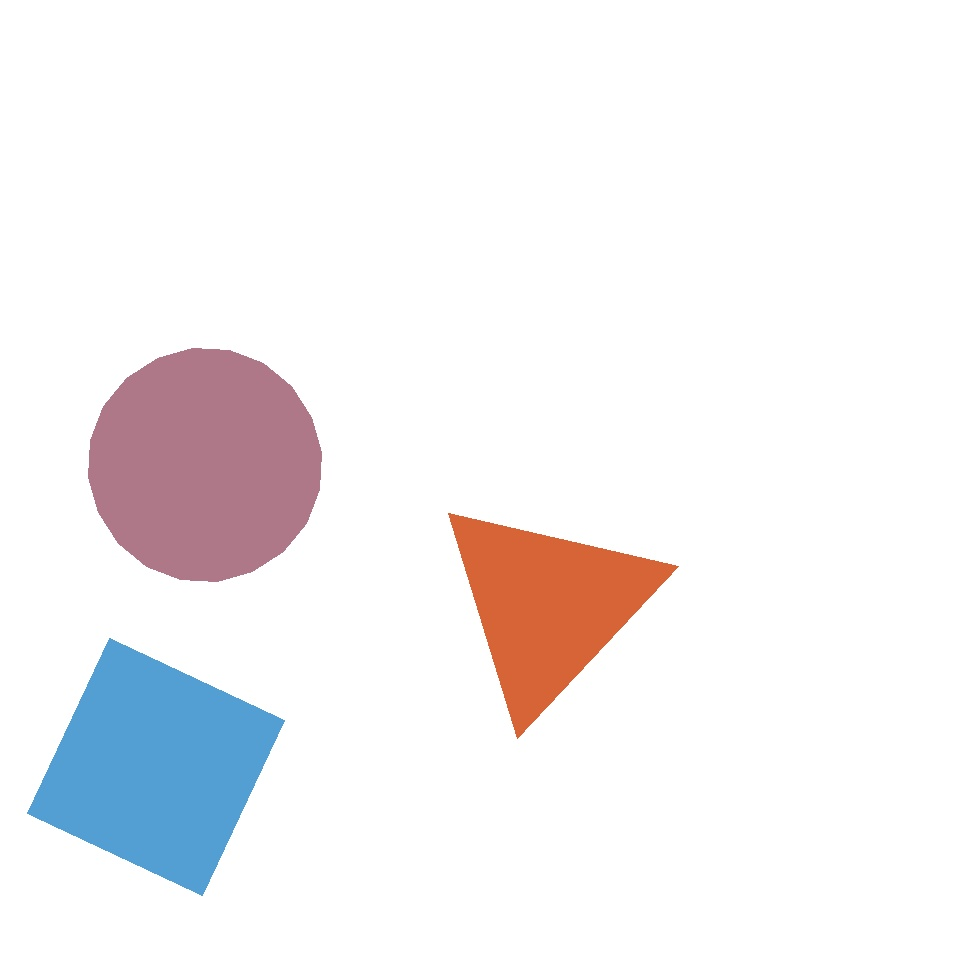circle: (378, 654, 640, 894), (433, 494, 663, 718), (464, 522, 654, 708)
square: (61, 312, 334, 584), (28, 638, 284, 896), (332, 128, 558, 356), (682, 776, 781, 874), (288, 366, 377, 456)
triangle: (88, 348, 322, 582)
